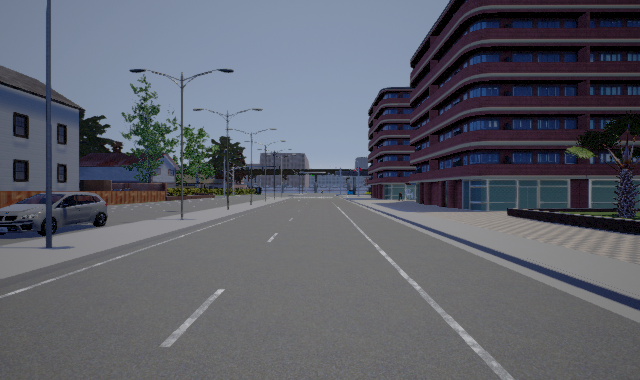vehicle: (1, 183, 111, 236)
